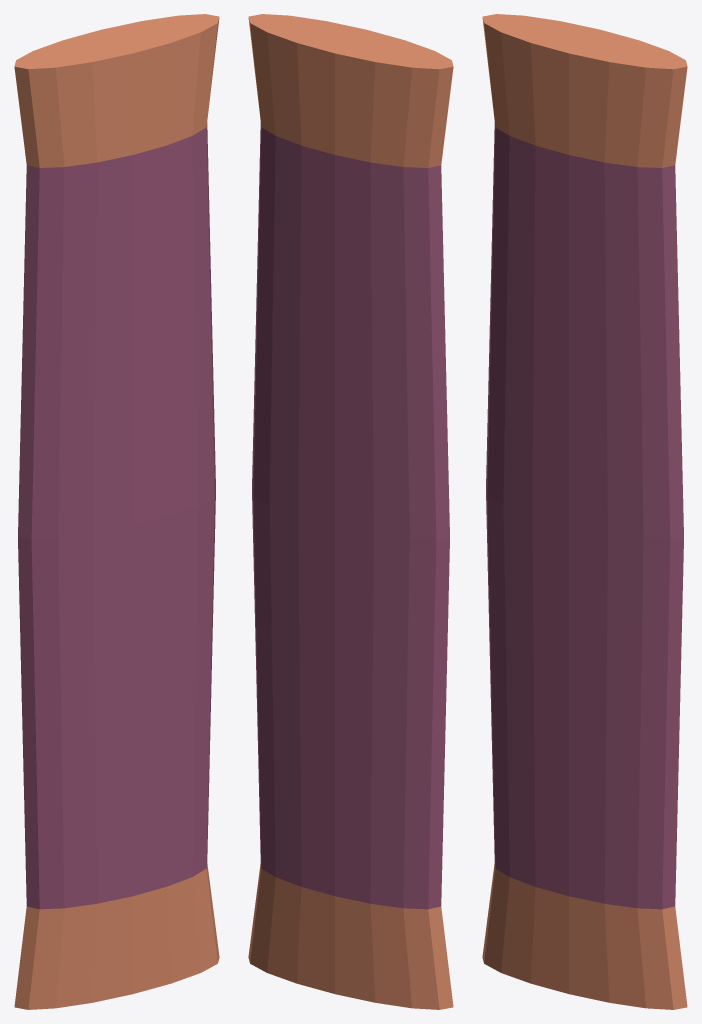
The model's file is Cocina Paquete Fideos.fbx.
3 views of the same model, side by side, from view 1: azimuth 30°, elevation 25°; view 2: azimuth 150°, elevation 25°; view 3: azimuth 330°, elevation 25° (orthographic).
Parts seen in each view (by area): view 1: Paquete fideos; view 2: Paquete fideos; view 3: Paquete fideos.
Boxes of the visible parts, x1,y1,x2,y2 form: Paquete fideos: [14, 14, 219, 1009]; Paquete fideos: [248, 14, 453, 1009]; Paquete fideos: [482, 14, 687, 1009].
Bounding box in the file's own units: 7.11 × 31.17 × 1.93.
